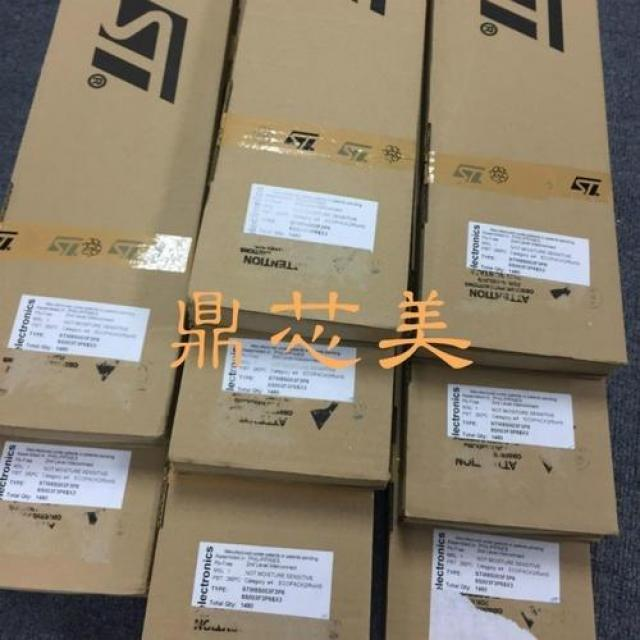box: (0, 0, 237, 442), (188, 0, 429, 348), (426, 0, 626, 378), (133, 458, 384, 640), (395, 358, 629, 544), (158, 327, 394, 492), (0, 434, 167, 602), (384, 518, 600, 640)
